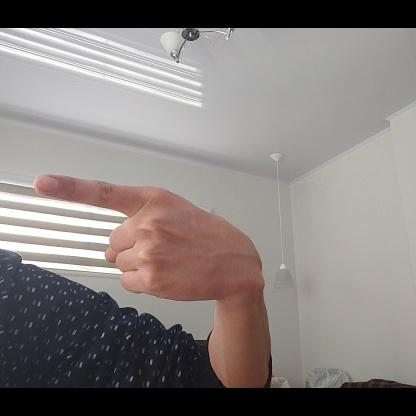G: (34, 172, 262, 301)
